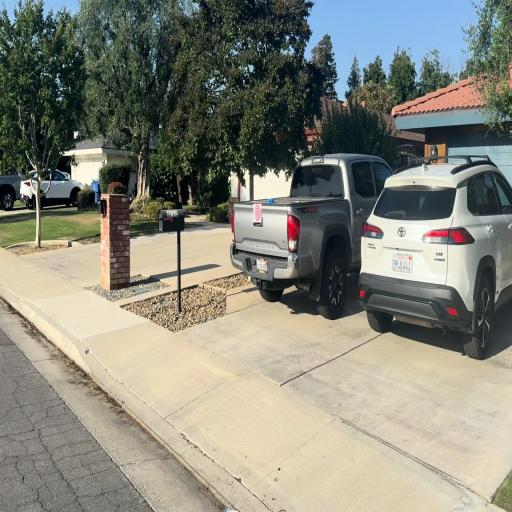bullseye: (254, 204, 261, 222)
